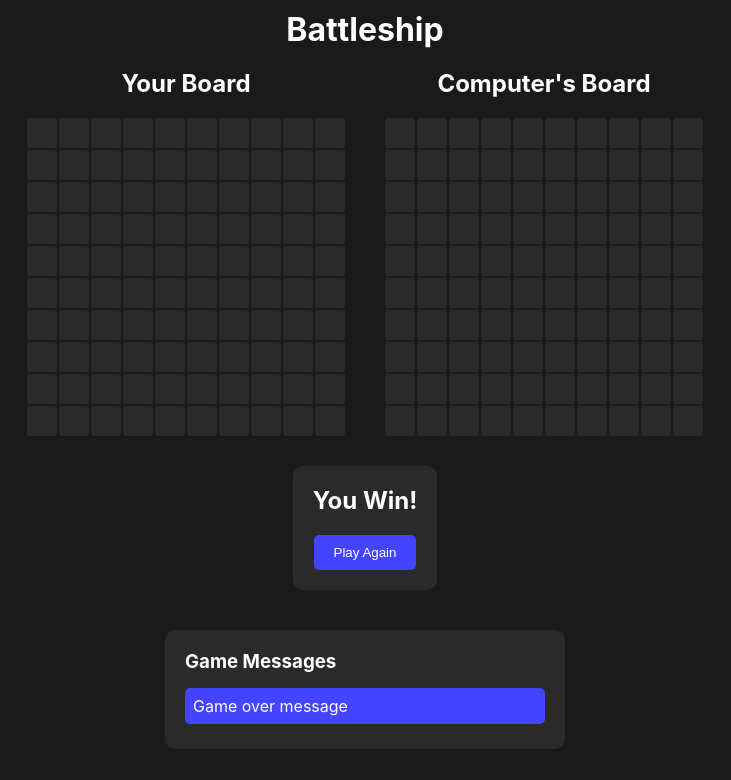
Game Component › handles game reset
This screenshot has width=731, height=780.
Click the button "Play Again": click(365, 552) left=314, top=535, right=416, bottom=570
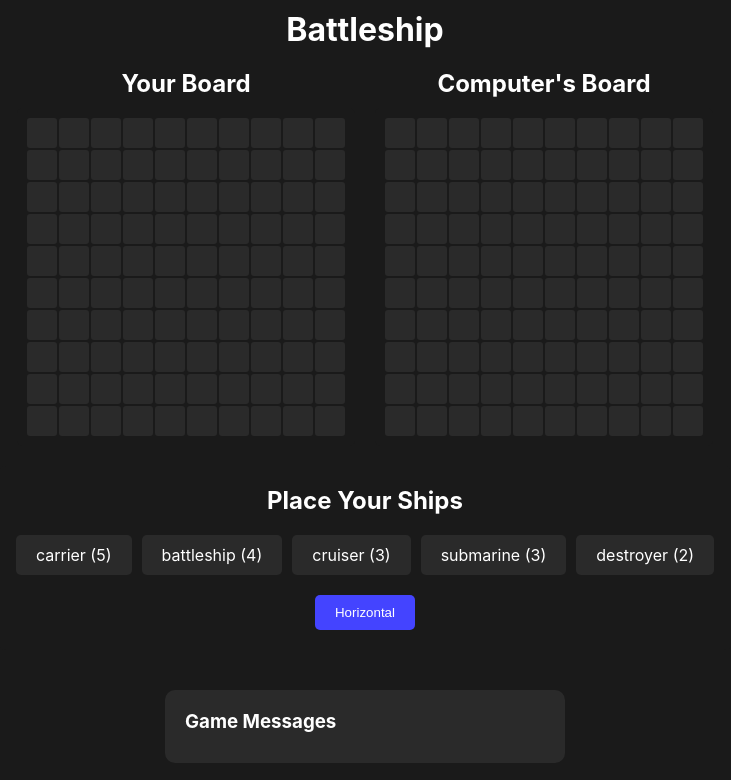
Expected: the heading "Place Your Ships" is shown, left=267, top=486, right=463, bottom=515
